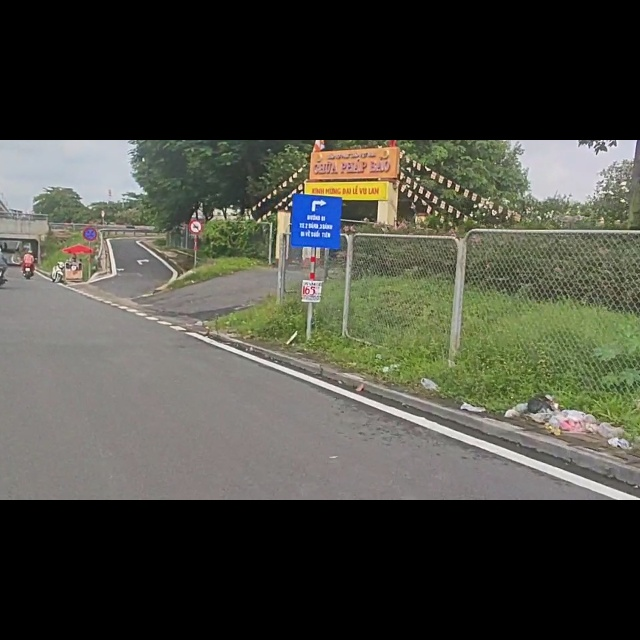bien_chi_dan: (82, 154, 97, 180), (188, 141, 203, 167)
